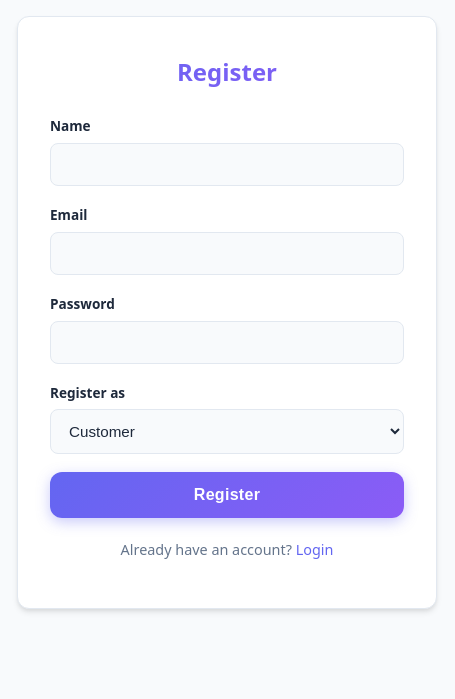
Register › shows error when fields are empty
Click the button "Register" at [227, 495], box [50,472,404,518]
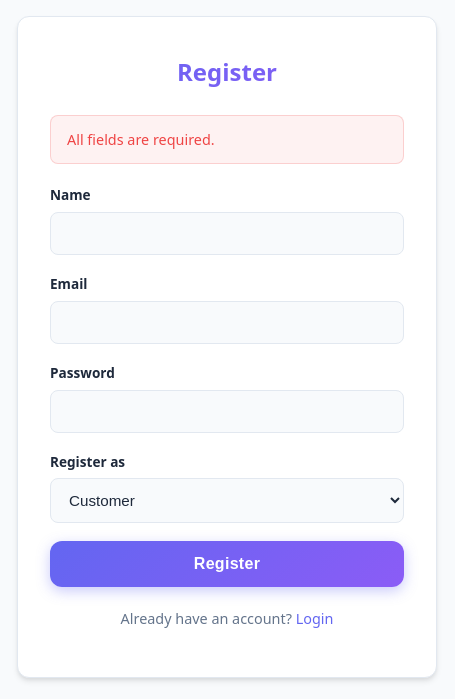
Expected: the text "All fields are required." is shown, [50,115,404,164]
